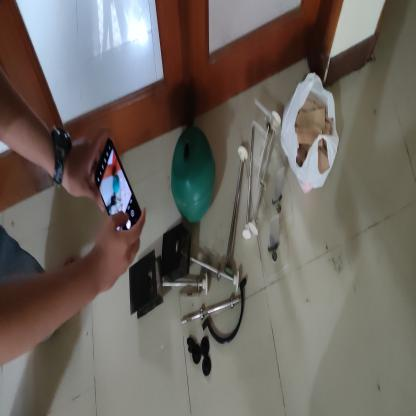green_buoy: (170, 125, 217, 226)
